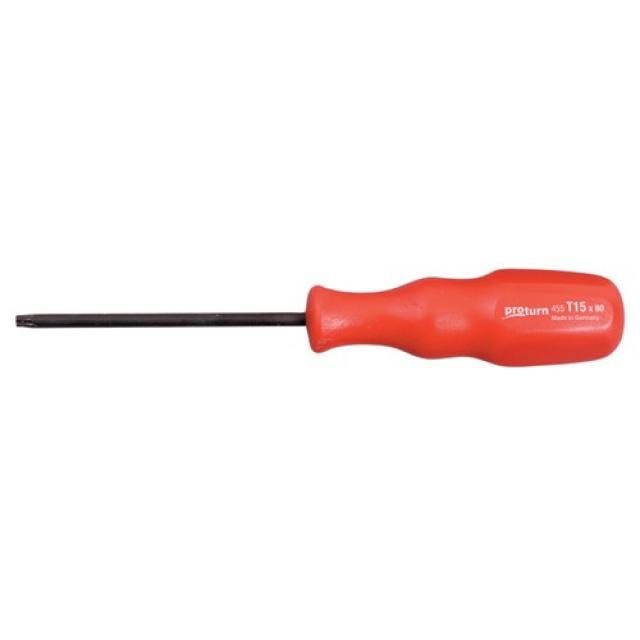screwdriver: (8, 264, 634, 372)
